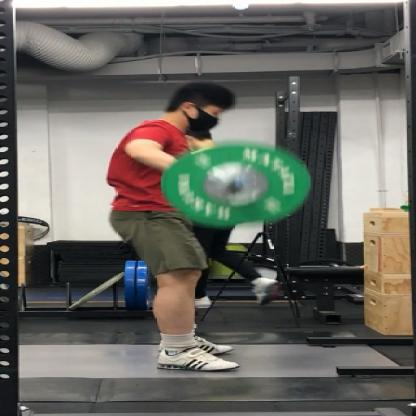Barbell: (153, 135, 318, 232)
